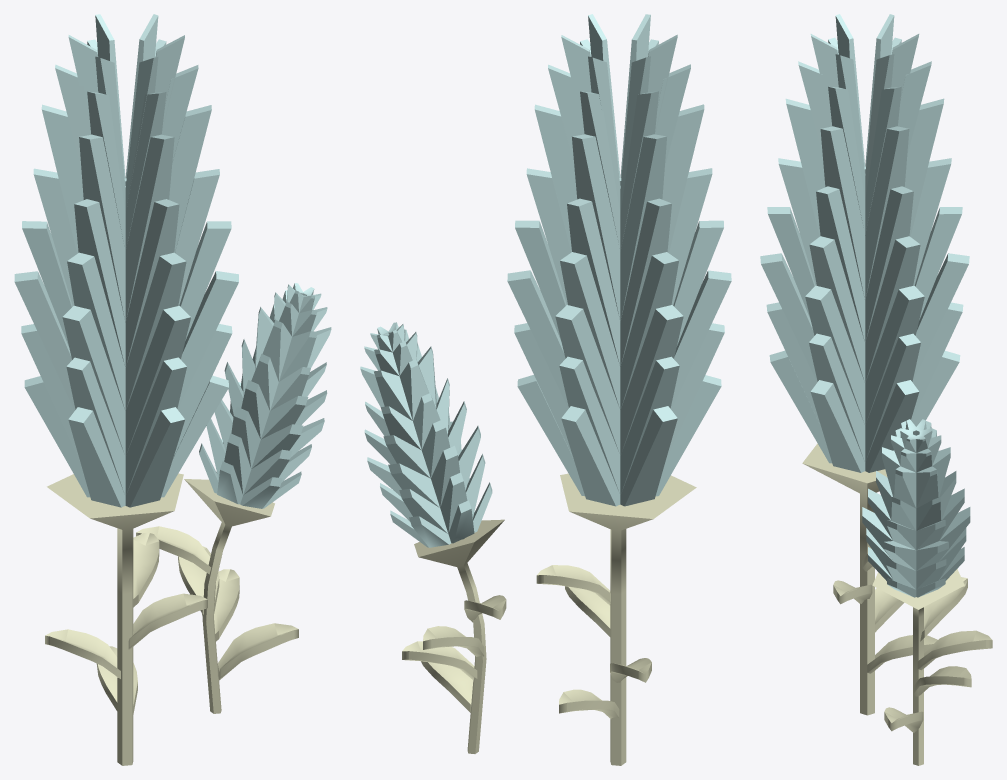
The picture shows the model from 3 angles, left to right: view 1: azimuth 30°, elevation 25°; view 2: azimuth 150°, elevation 25°; view 3: azimuth 270°, elevation 25°; orthographic projection. The views are drawn at different scales.
Visible parts, largest first — view 1: pPipe23, pPipe27, pPipe22, pPipe26, pCube24, pCube16, pCube15, pCube17, pCube23, pCube25, pCube22, pCube14; view 2: pPipe23, pPipe27, pPipe22, pPipe26, pCube17, pCube25, pCube24, pCube22, pCube14, pCube16, pCube23, pCube15; view 3: pPipe23, pPipe27, pPipe22, pPipe26, pCube22, pCube25, pCube23, pCube14, pCube24, pCube15, pCube16.
Boxes of the visible parts, x1=… form: pPipe23: x1=14, y1=14, x2=238, y2=507; pPipe27: x1=199, y1=283, x2=331, y2=508; pPipe22: x1=47, y1=473, x2=183, y2=765; pPipe26: x1=184, y1=479, x2=274, y2=713; pCube24: x1=217, y1=623, x2=298, y2=680; pCube16: x1=128, y1=593, x2=207, y2=649; pCube15: x1=45, y1=629, x2=120, y2=678; pCube17: x1=133, y1=533, x2=159, y2=607; pCube23: x1=136, y1=526, x2=211, y2=574; pCube25: x1=202, y1=569, x2=239, y2=641; pCube22: x1=178, y1=546, x2=219, y2=614; pCube14: x1=96, y1=646, x2=137, y2=714; pPipe23: x1=507, y1=14, x2=731, y2=506; pPipe27: x1=360, y1=322, x2=492, y2=547; pPipe22: x1=560, y1=473, x2=696, y2=765; pPipe26: x1=414, y1=519, x2=504, y2=753; pCube17: x1=536, y1=565, x2=610, y2=605; pCube25: x1=402, y1=641, x2=477, y2=680; pCube24: x1=421, y1=661, x2=473, y2=712; pCube22: x1=423, y1=626, x2=484, y2=656; pCube14: x1=559, y1=689, x2=619, y2=718; pCube16: x1=565, y1=586, x2=610, y2=636; pCube23: x1=464, y1=595, x2=506, y2=622; pCube15: x1=610, y1=658, x2=651, y2=682; pPipe23: x1=760, y1=14, x2=969, y2=472; pPipe27: x1=862, y1=419, x2=970, y2=597; pPipe22: x1=802, y1=443, x2=887, y2=715; pPipe26: x1=872, y1=569, x2=964, y2=765; pCube22: x1=917, y1=630, x2=992, y2=670; pCube25: x1=913, y1=666, x2=971, y2=696; pCube23: x1=920, y1=577, x2=967, y2=641; pCube14: x1=867, y1=635, x2=937, y2=673; pCube24: x1=884, y1=707, x2=923, y2=732; pCube15: x1=875, y1=588, x2=904, y2=632; pCube16: x1=833, y1=580, x2=872, y2=604.
Bounding box in the file's own units: 7.17 × 15.93 × 4.95.
